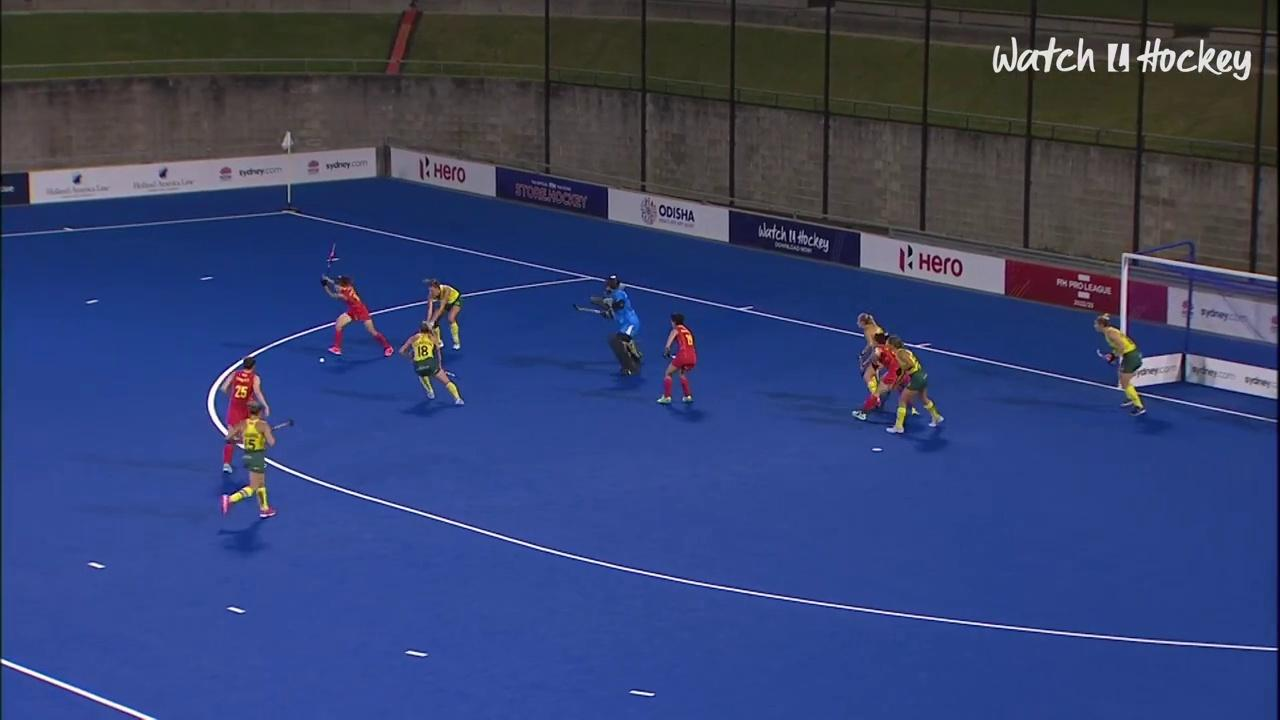ball: (309, 352, 328, 368)
